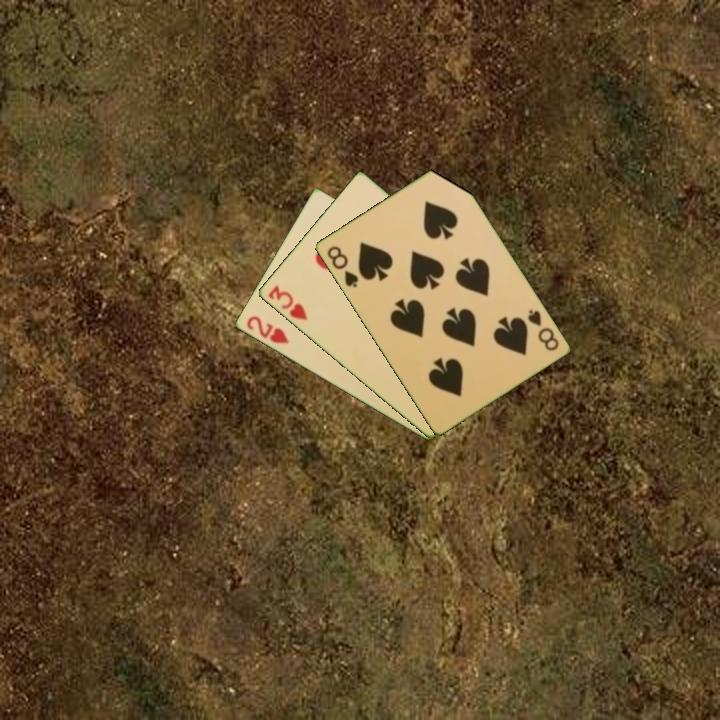2h: (242, 312, 291, 347)
3h: (264, 281, 310, 323)
8s: (323, 242, 361, 291), (523, 306, 561, 354)
